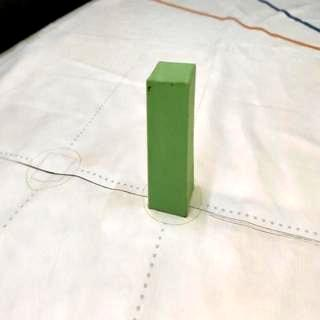greenbox: (147, 58, 198, 216)
